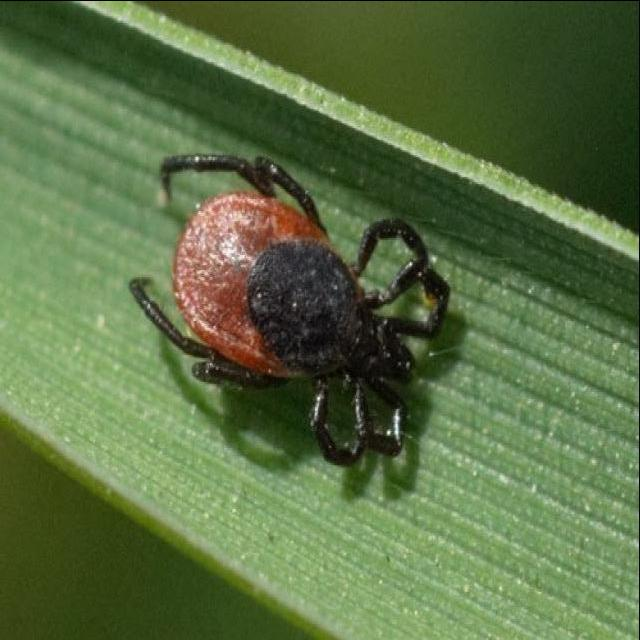Ixodes Ricinus-F: (129, 154, 451, 467)
